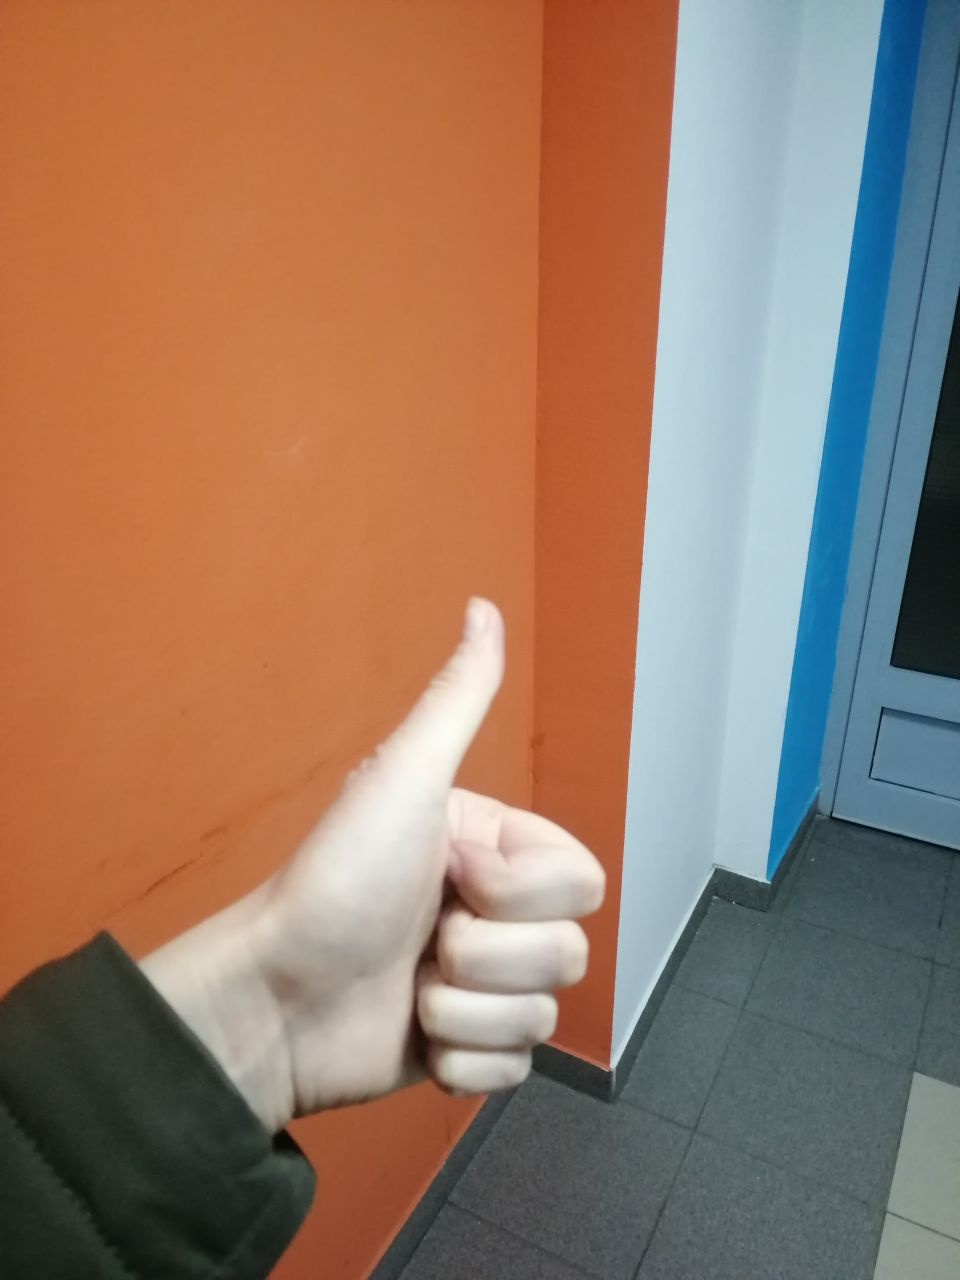hand: (298, 619, 591, 1070)
